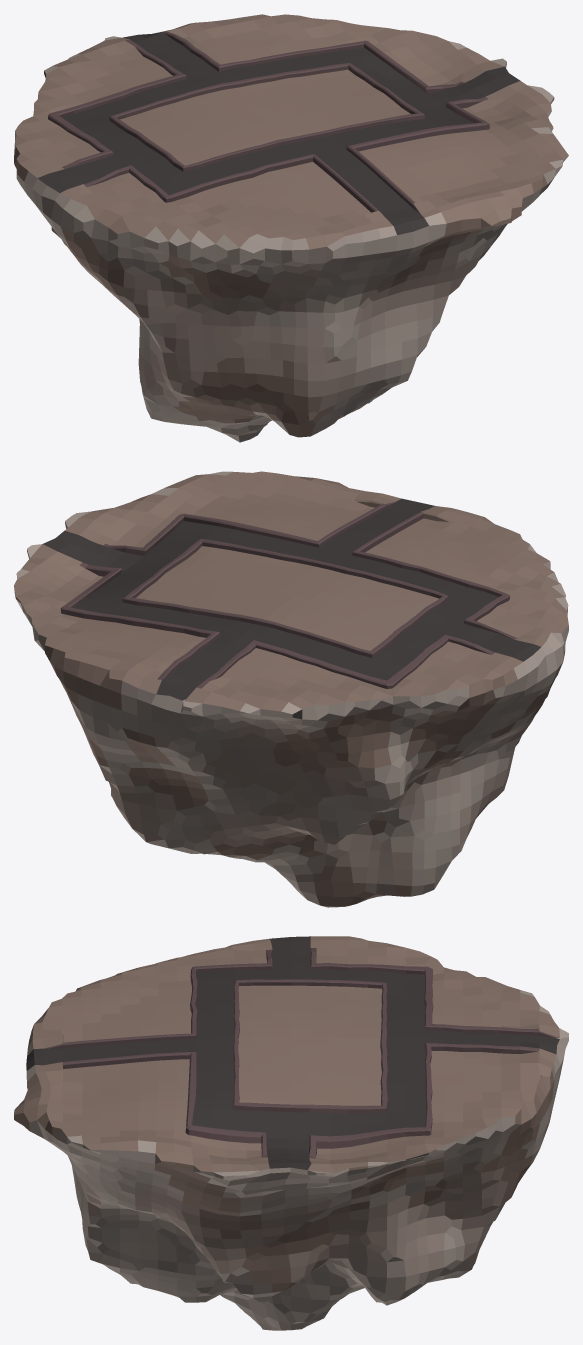
Rendered from island_big_3.fbx.
3 renders of one model, top to bottom at view 1: azimuth 30°, elevation 25°; view 2: azimuth 150°, elevation 25°; view 3: azimuth 270°, elevation 25°, orthographic. The views are drawn at different scales.
Visible parts, largest first — view 1: Icosphere; view 2: Icosphere; view 3: Icosphere.
Part boxes in pixels (x1,y1,x2,y2): Icosphere: (14,14,568,442); Icosphere: (14,471,568,907); Icosphere: (14,936,568,1330).
Bounding box in the file's own units: 307 × 186 × 300.
